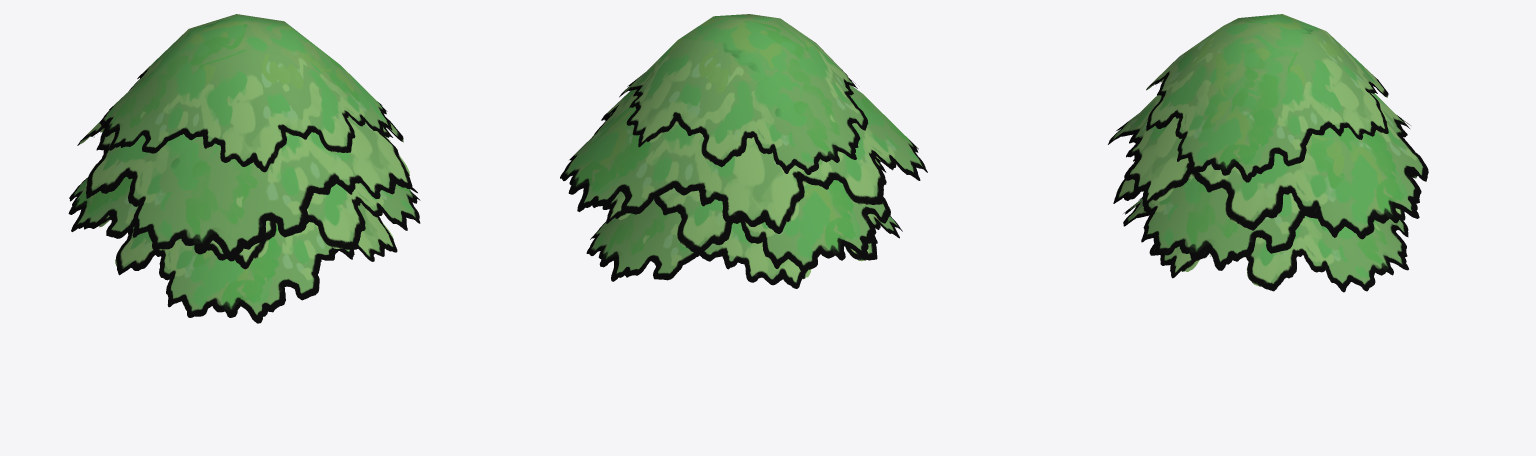
Rendered from Bush_05.fbx.
The picture shows the model from 3 angles, left to right: view 1: azimuth 30°, elevation 25°; view 2: azimuth 150°, elevation 25°; view 3: azimuth 270°, elevation 25°; orthographic projection. The views are drawn at different scales.
Parts seen in each view (by area): view 1: Bush_01; view 2: Bush_01; view 3: Bush_01.
Part boxes in pixels (left/top/right/bottom): Bush_01: left=68, top=14, right=420, bottom=323; Bush_01: left=560, top=14, right=927, bottom=288; Bush_01: left=1108, top=14, right=1428, bottom=292.
Bounding box in the file's own units: 218 × 154 × 218.
